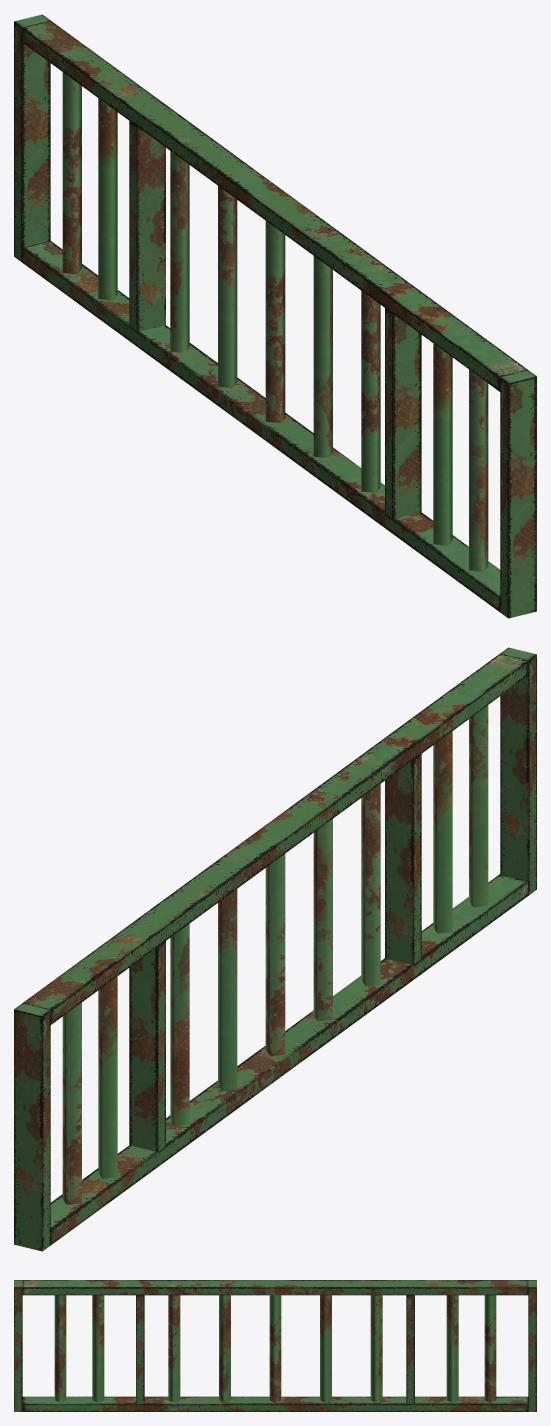
The model's file is metalBars01_top_3m.FBX.
3 renders of one model, top to bottom at view 1: azimuth 30°, elevation 25°; view 2: azimuth 150°, elevation 25°; view 3: azimuth 270°, elevation 25°, orthographic. The views are drawn at different scales.
Visible parts, largest first — view 1: metalBars01_top_3m; view 2: metalBars01_top_3m; view 3: metalBars01_top_3m.
Part boxes in pixels (left/top/right/bottom): metalBars01_top_3m: left=14, top=14, right=536, bottom=618; metalBars01_top_3m: left=14, top=647, right=536, bottom=1251; metalBars01_top_3m: left=14, top=1280, right=536, bottom=1411.
Size of the model in its own units: 10 by 78.75 by 300.
